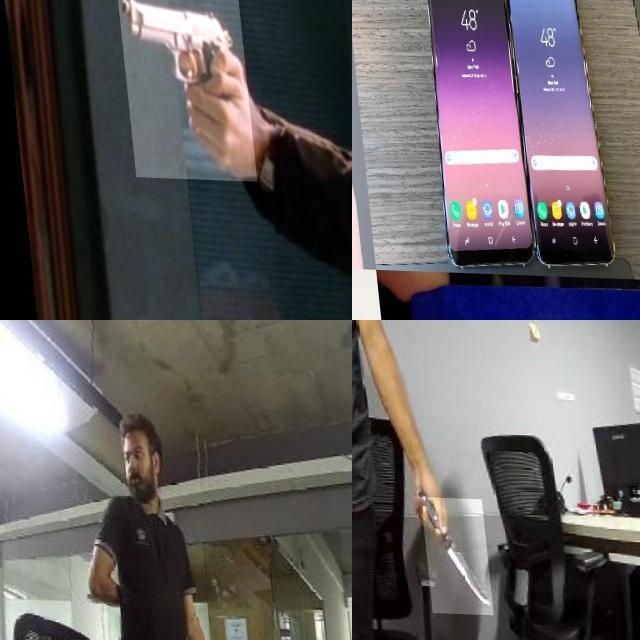-: (412, 495, 482, 613)
gun-knife-thesis - v11 Yolov5 augmented: (113, 0, 250, 179)
